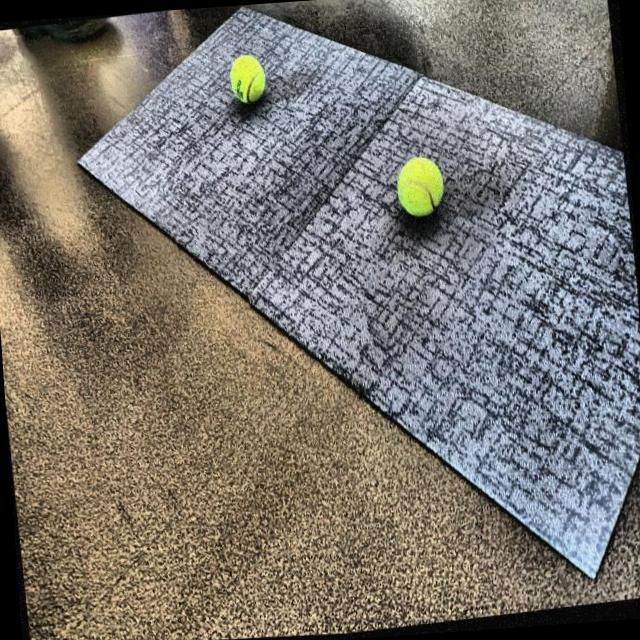Tennis Ball: (390, 154, 448, 228), (226, 53, 268, 110)
